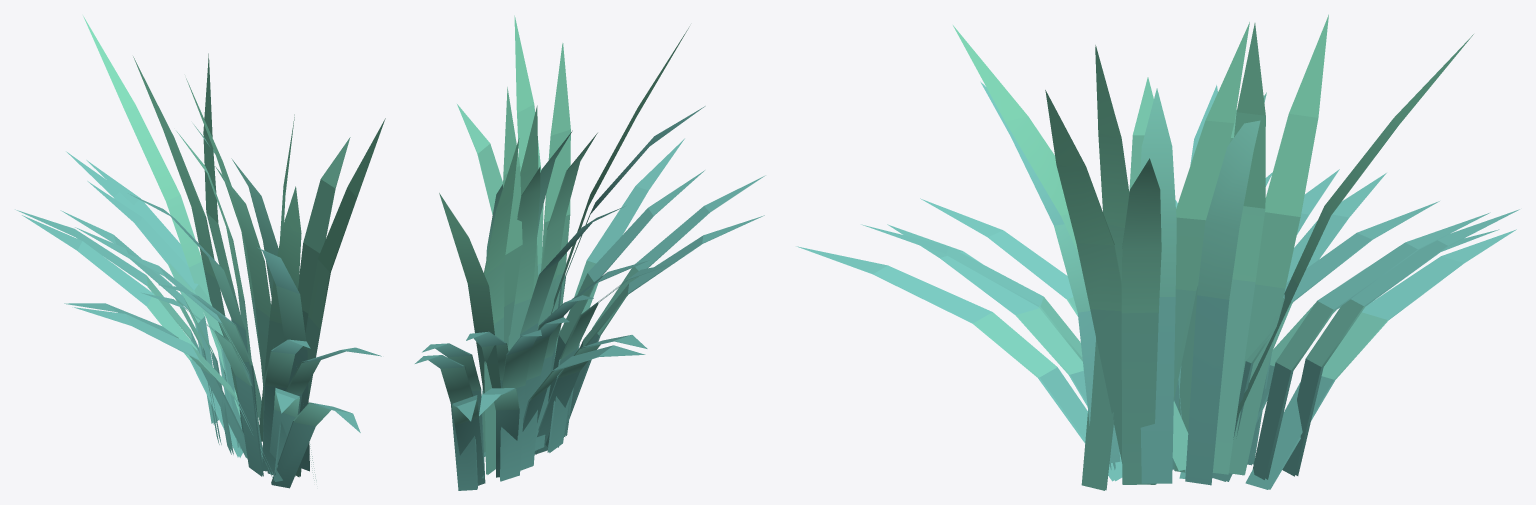
The model's file is grass.glb.
The picture shows the model from 3 angles, left to right: view 1: azimuth 30°, elevation 25°; view 2: azimuth 150°, elevation 25°; view 3: azimuth 270°, elevation 25°; orthographic projection. The views are drawn at different scales.
Visible parts, largest first — view 1: Grass.001; view 2: Grass.001; view 3: Grass.001.
Part boxes in pixels (left/top/right/bottom): Grass.001: left=15, top=16, right=385, bottom=488; Grass.001: left=415, top=15, right=765, bottom=490; Grass.001: left=796, top=14, right=1519, bottom=490.
Bounding box in the file's own units: 0.2876 × 0.4593 × 0.673.
